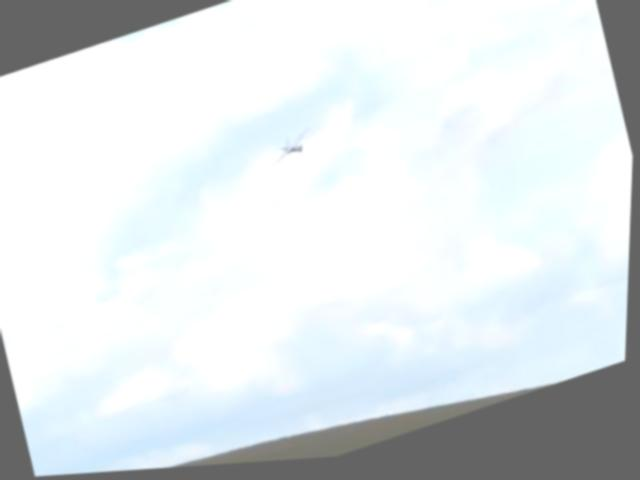uav: (267, 127, 317, 169)
